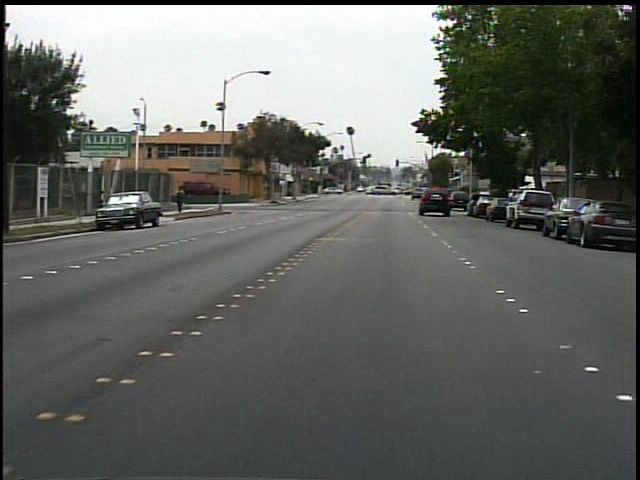person: (176, 182, 193, 216)
